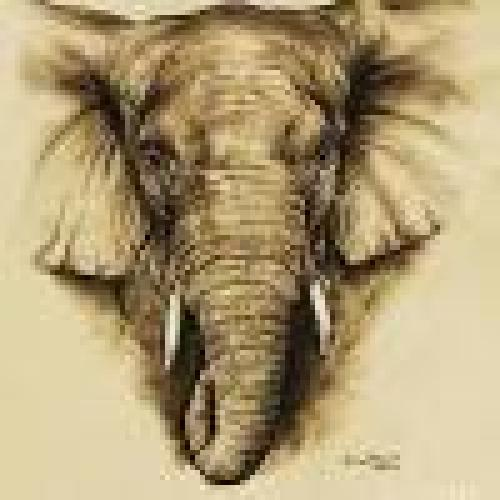asian_elephant-endangered: (48, 6, 456, 481)
